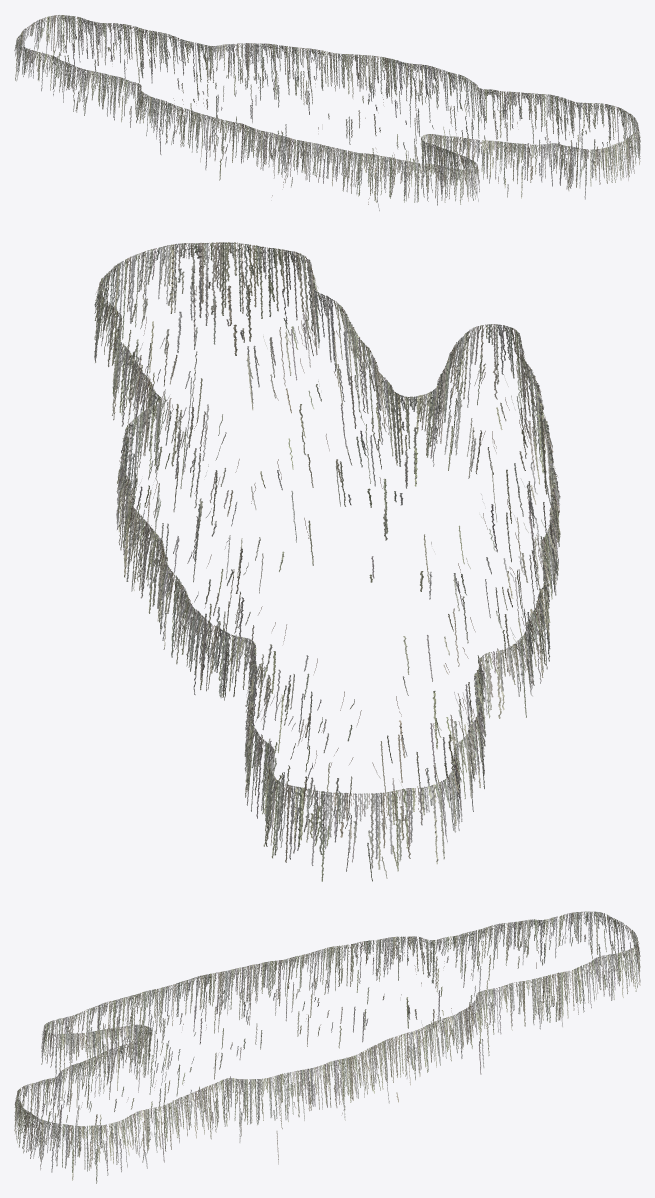
File: SM_H14_Vines.fbx
The picture shows the model from 3 angles, top to bottom: view 1: azimuth 30°, elevation 25°; view 2: azimuth 150°, elevation 25°; view 3: azimuth 270°, elevation 25°; orthographic projection. The views are drawn at different scales.
Parts seen in each view (by area): view 1: SM_H14_Vines; view 2: SM_H14_Vines; view 3: SM_H14_Vines.
Part boxes in pixels (box(x1,y1,x2,y2)): SM_H14_Vines: box(14, 15, 640, 211); SM_H14_Vines: box(94, 242, 560, 881); SM_H14_Vines: box(14, 911, 640, 1183).
Size of the model in its own units: 299 by 81.22 by 365.
